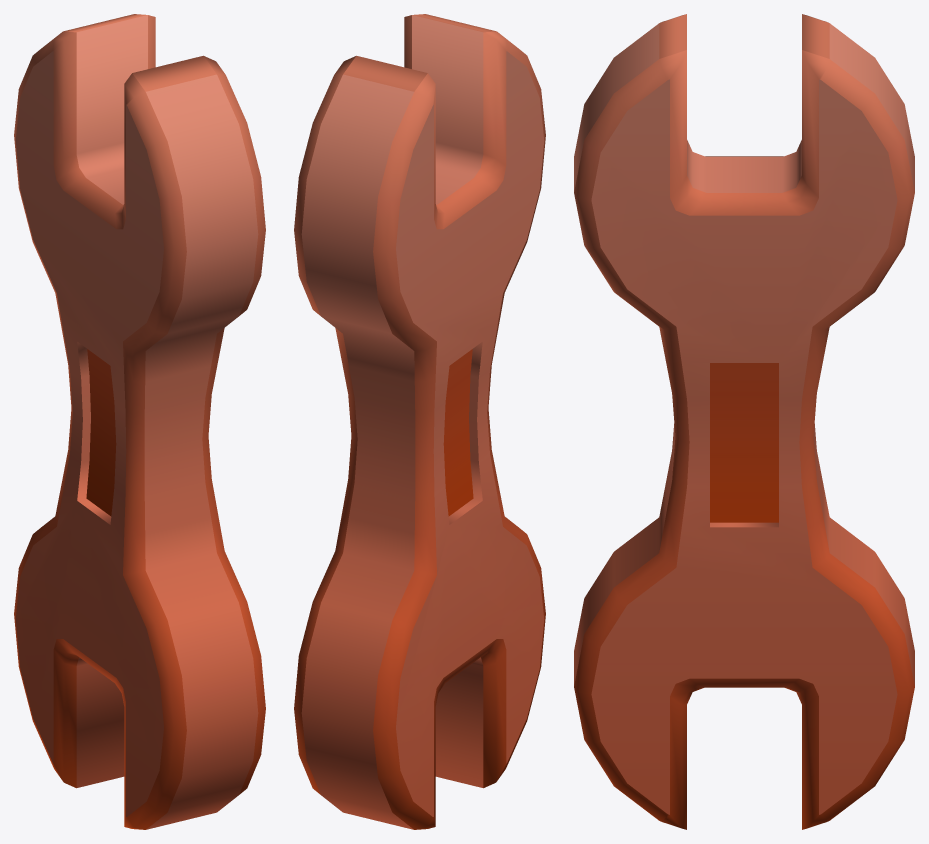
Rendered from Wrench_V1_02.fbx.
3 views of the same model, side by side, from view 1: azimuth 30°, elevation 25°; view 2: azimuth 150°, elevation 25°; view 3: azimuth 270°, elevation 25° (orthographic). The views are drawn at different scales.
Parts seen in each view (by area): view 1: Wrench_V1_02; view 2: Wrench_V1_02; view 3: Wrench_V1_02.
Part boxes in pixels (bbox=[...]): Wrench_V1_02: bbox=[14, 14, 265, 829]; Wrench_V1_02: bbox=[294, 14, 545, 829]; Wrench_V1_02: bbox=[574, 14, 914, 829].
Size of the model in its own units: 5.63 by 40.6 by 16.08.
